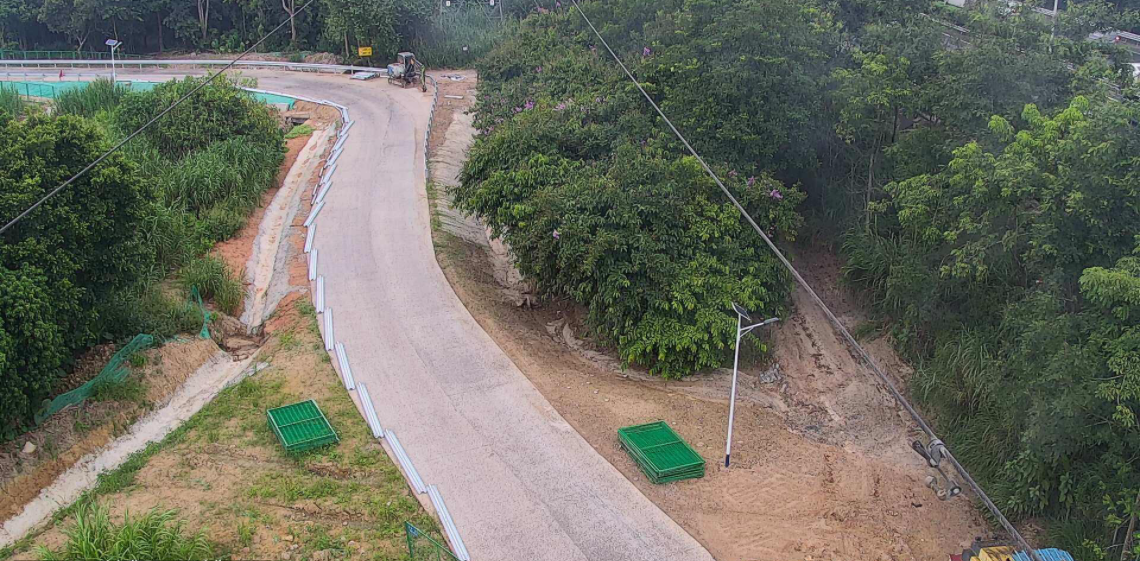绿膜: (32, 282, 212, 426), (0, 79, 167, 111), (234, 90, 298, 109)
